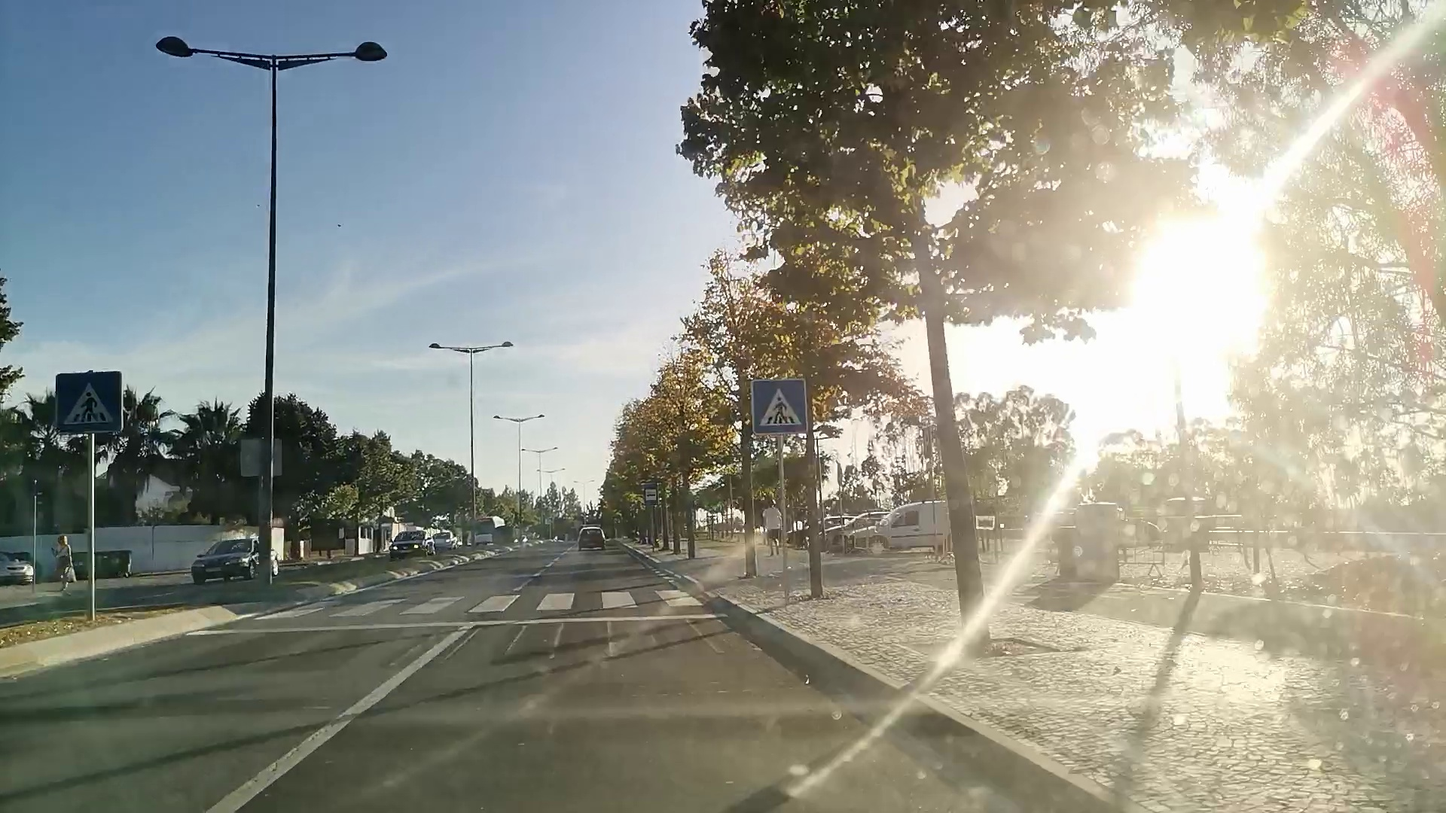Stairs: (277, 587, 711, 629)
